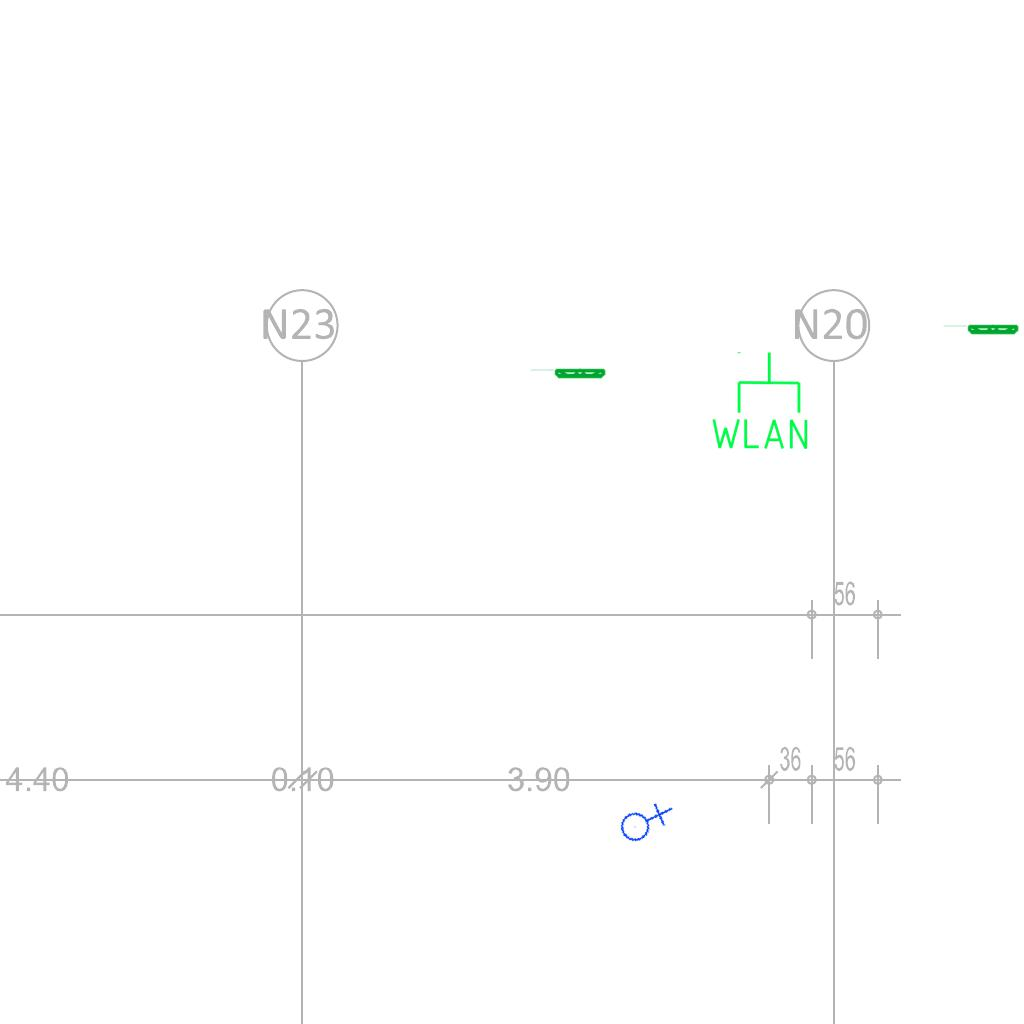Elektroanschluss_allgemein_230V_Geraeteanschlussdose_230V: (612, 790, 675, 851)
Sicherheitsleuchte_Wandeinbau: (941, 324, 1020, 336), (528, 368, 607, 380)
WLAN: (707, 349, 812, 453)
